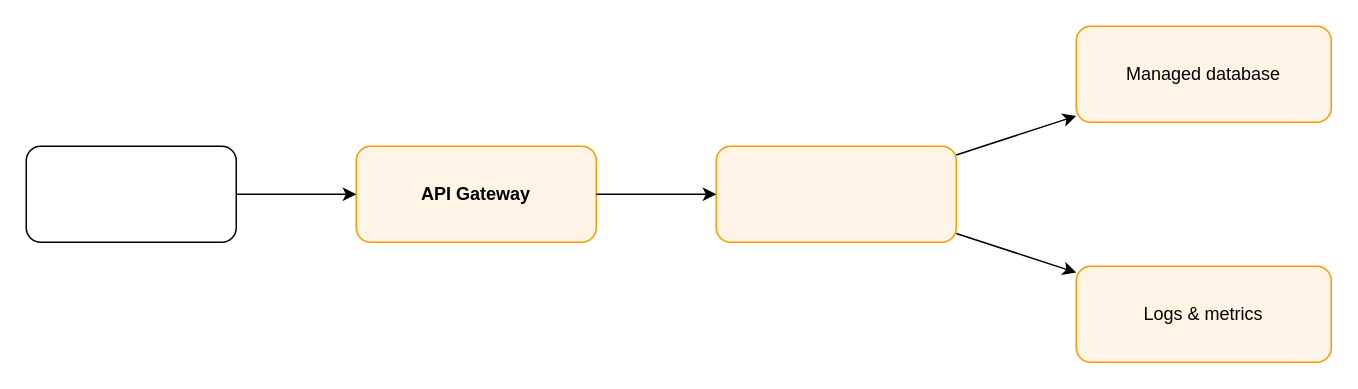
The diagram is 1358 pixels wide and 389 high, and some of its shapes have lost their labels. The shapes that lost their labels are listed below. From the top down, each one's centre as x and y in pixels, then its label:
At [130,193]: "Client".
At [835,193]: "Lambda".
